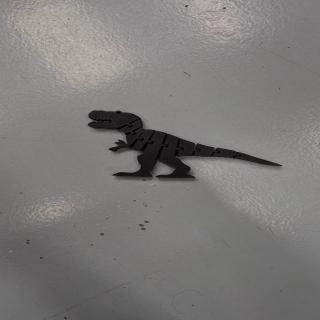dino: (87, 110, 284, 178)
